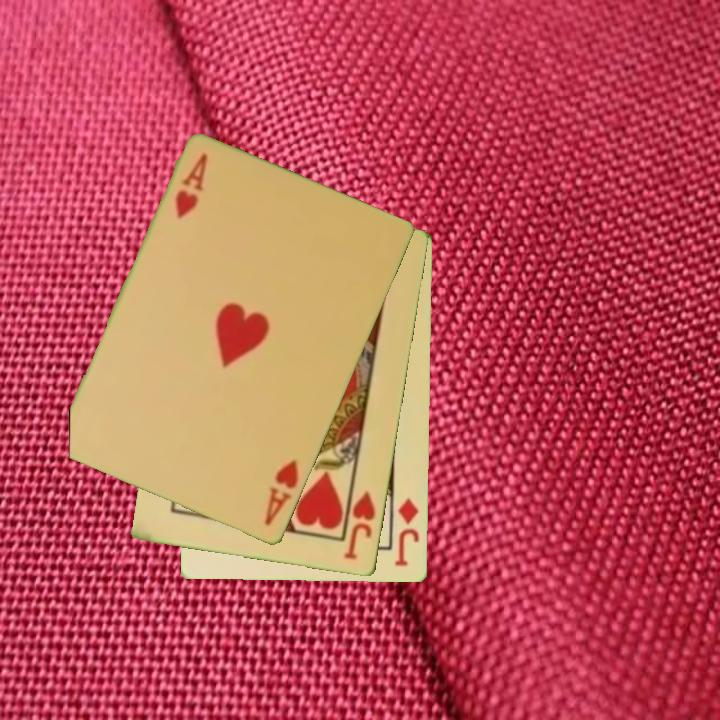Ah: (261, 456, 302, 529), (172, 150, 211, 223)
Jd: (392, 495, 423, 570)
Jh: (341, 480, 379, 563)
